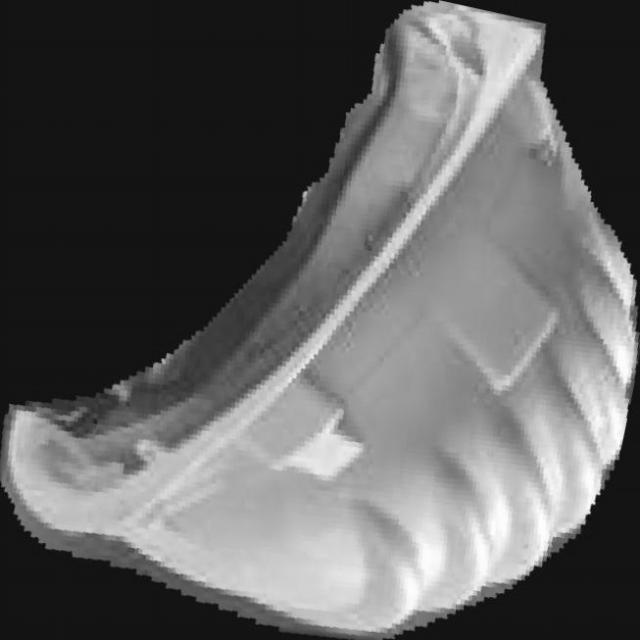construction helmet: (1, 0, 639, 640)
